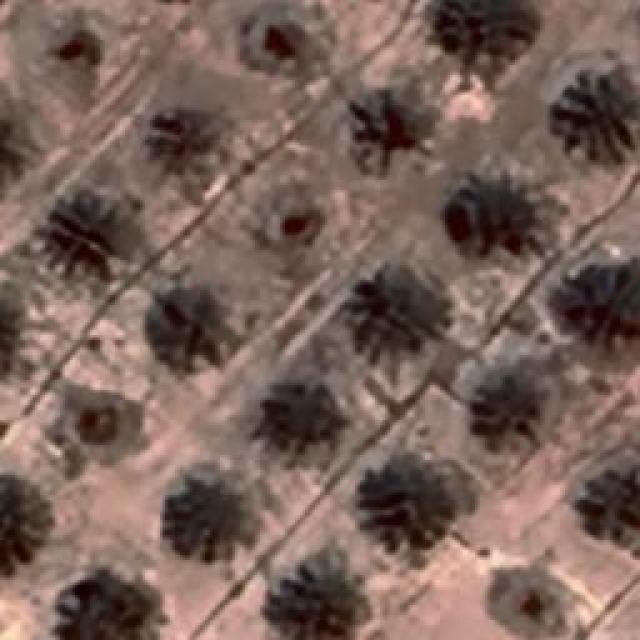PalmTree: (357, 444, 455, 542), (552, 62, 638, 160), (357, 268, 445, 362), (145, 274, 233, 362), (427, 0, 540, 62), (250, 380, 335, 455), (278, 557, 353, 640), (456, 178, 532, 258), (150, 108, 230, 184), (350, 98, 435, 164), (54, 188, 128, 260), (51, 580, 139, 640), (574, 262, 638, 342), (0, 470, 52, 567), (577, 460, 640, 534), (0, 76, 41, 188), (178, 494, 240, 566), (472, 375, 536, 435), (0, 276, 33, 384)
